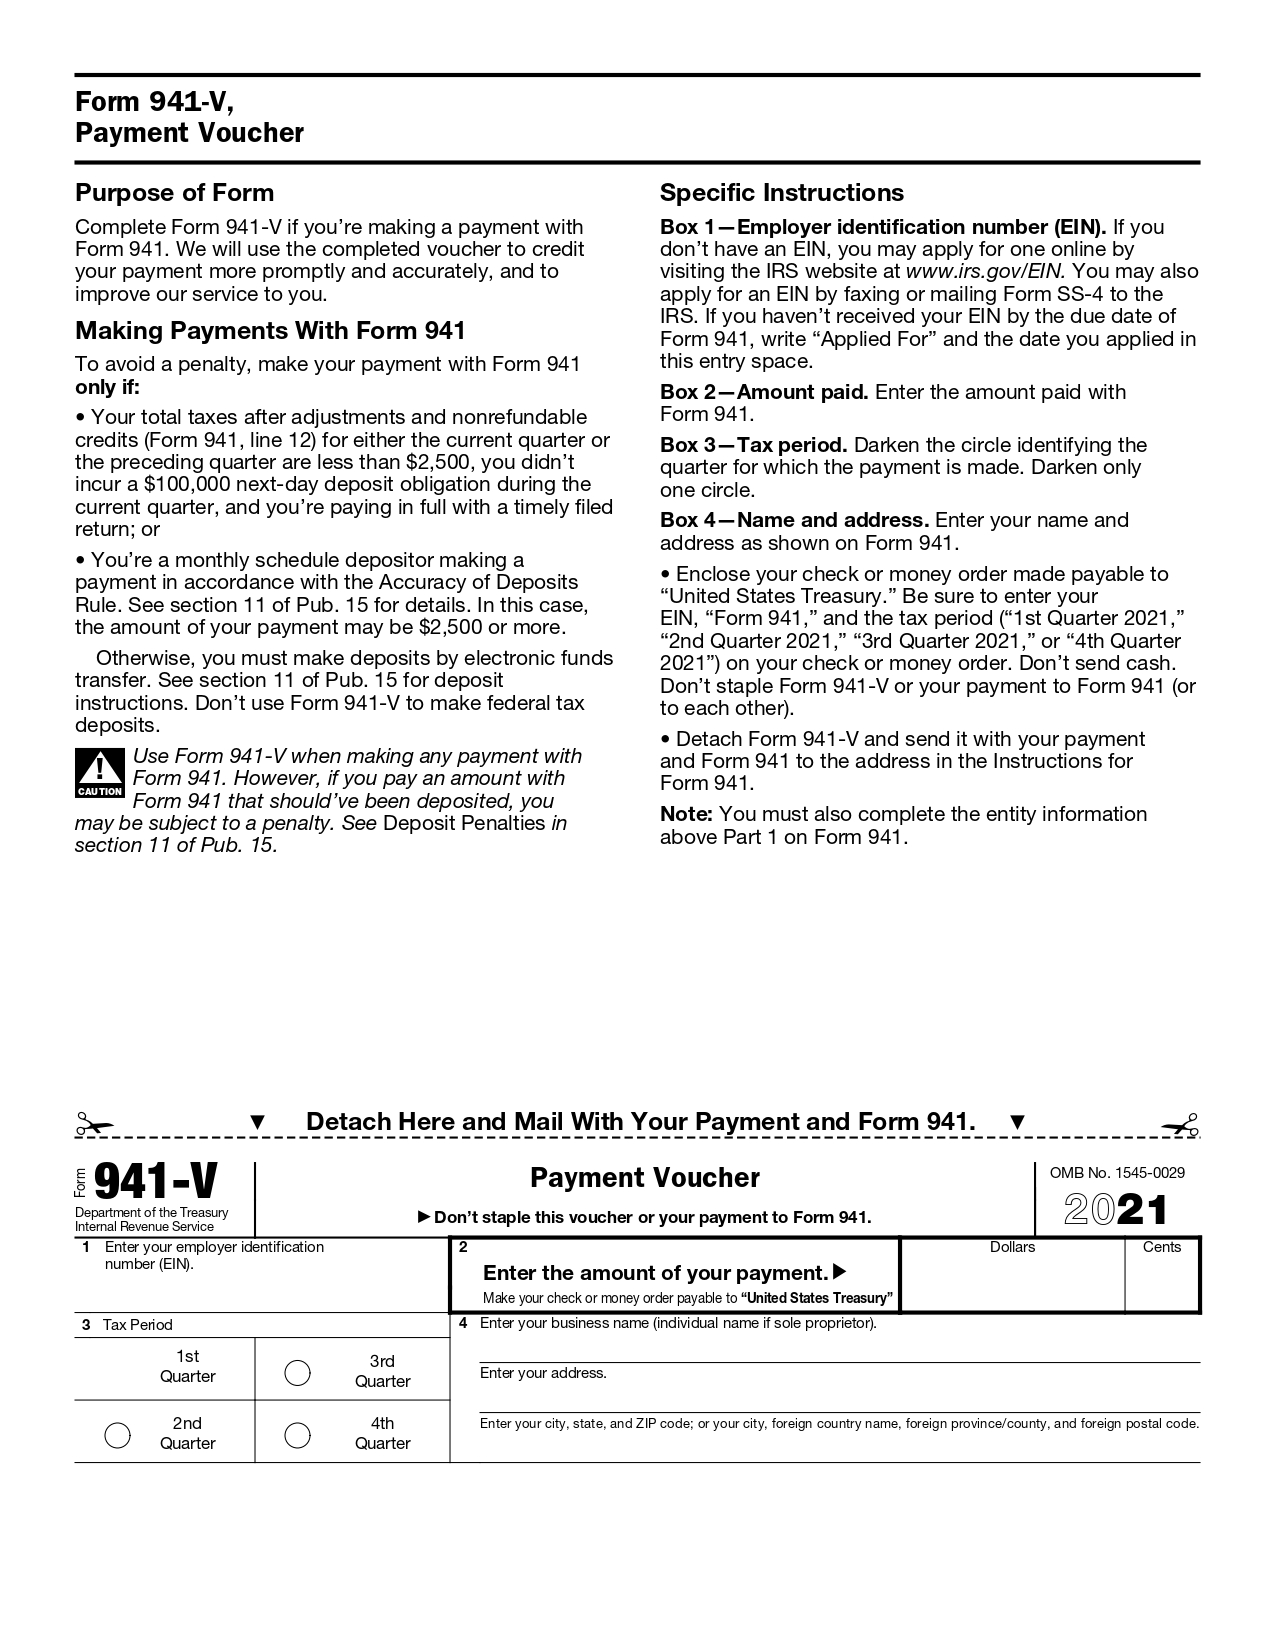form: (51, 1138, 1227, 1483)
